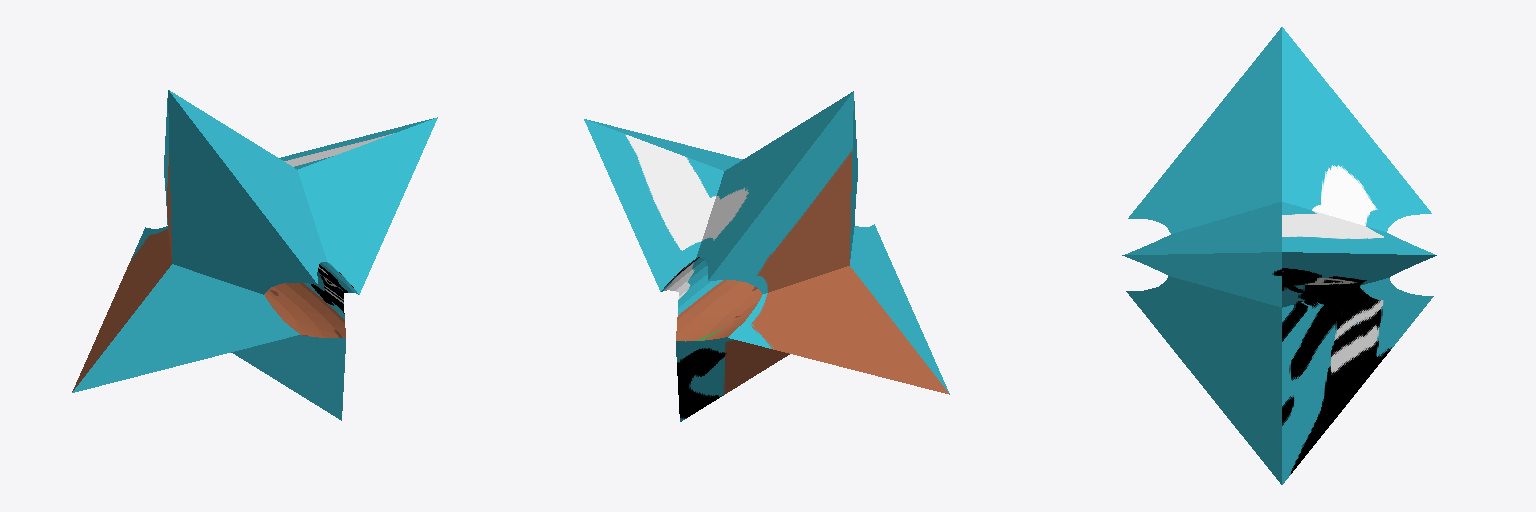
3 renders of one model, left to right at view 1: azimuth 30°, elevation 25°; view 2: azimuth 150°, elevation 25°; view 3: azimuth 270°, elevation 25°, orthographic.
Visible parts, largest first — view 1: 立方体.001; view 2: 立方体.001; view 3: 立方体.001.
Part boxes in pixels (x1,y1,x2,y2): 立方体.001: (72,90,437,420); 立方体.001: (584,91,949,421); 立方体.001: (1122,27,1436,484).
Bounding box in the file's own units: 0.2822 × 0.2751 × 0.21.
1 materials, 1 textured.